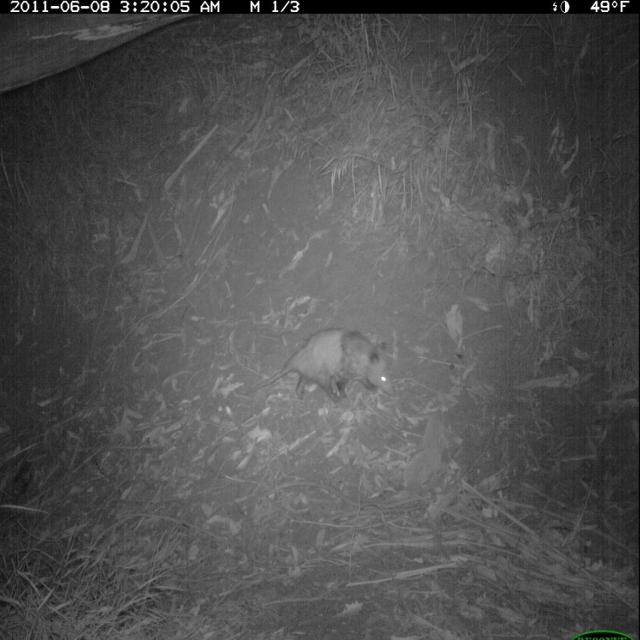opossum: (253, 317, 399, 419)
